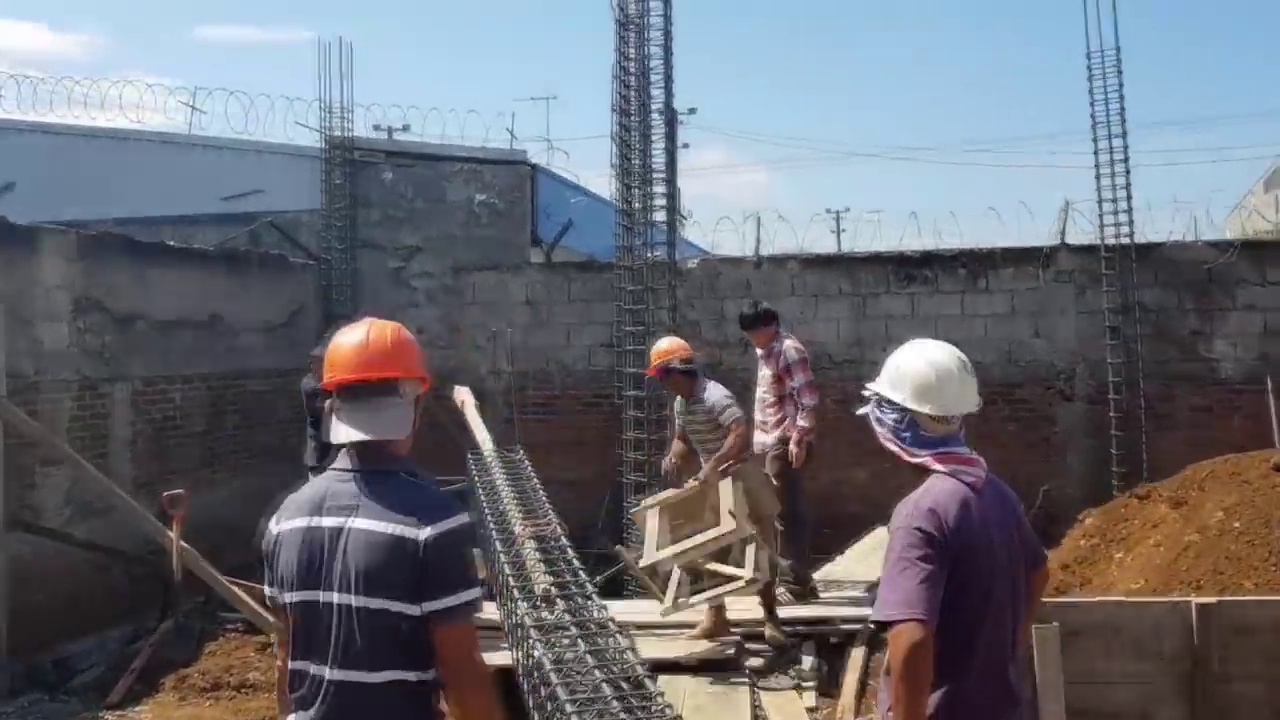helmet: (304, 321, 433, 407), (874, 344, 989, 423), (645, 341, 699, 384)
helmet-off: (744, 303, 787, 357)
helmet-on: (302, 314, 431, 477), (859, 338, 995, 474), (645, 334, 707, 402)
person: (259, 309, 506, 719), (855, 339, 1046, 717), (643, 334, 749, 641), (740, 303, 824, 621)
